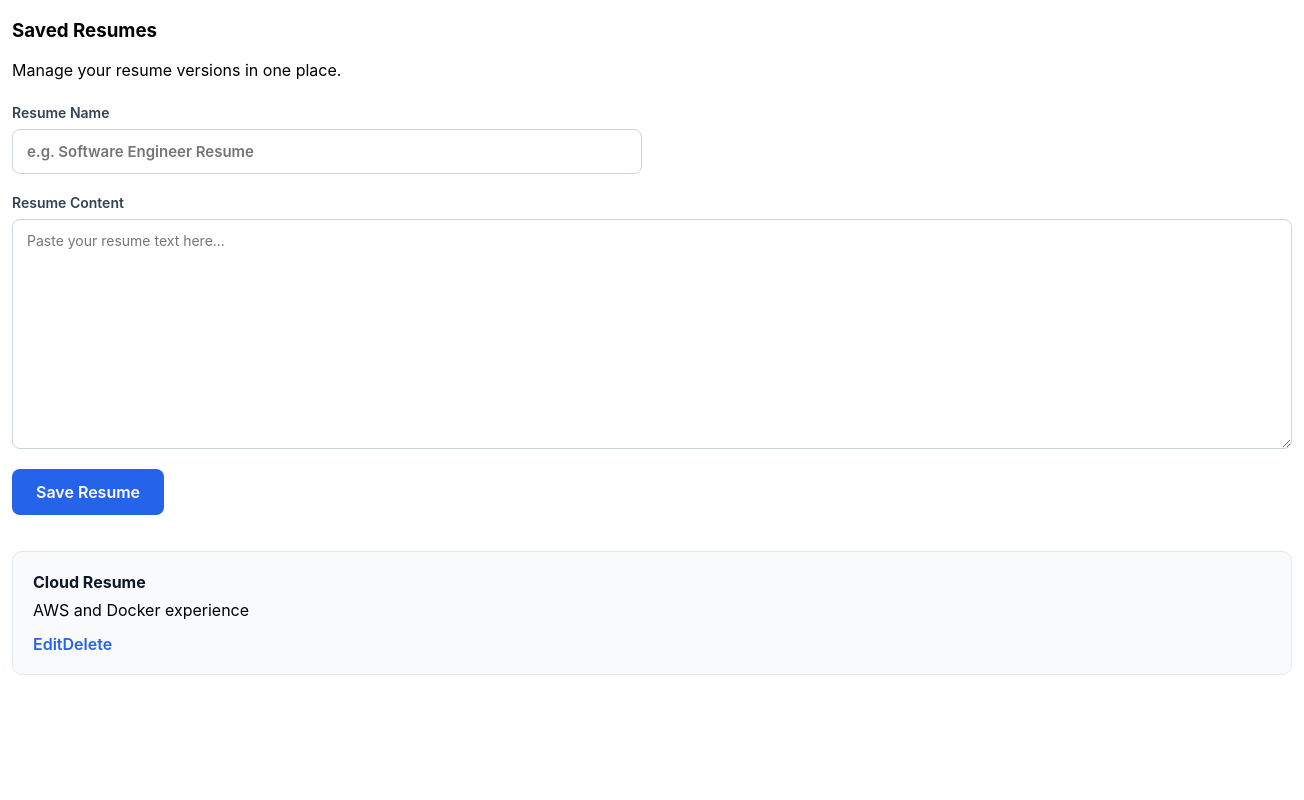
it: ResumeLibrary › cancels resume deletion without deleting it
Expected: the heading "Cloud Resume" is shown, [33, 572, 146, 592]
Click the button "Delete" at (87, 644), box [62, 634, 112, 654]
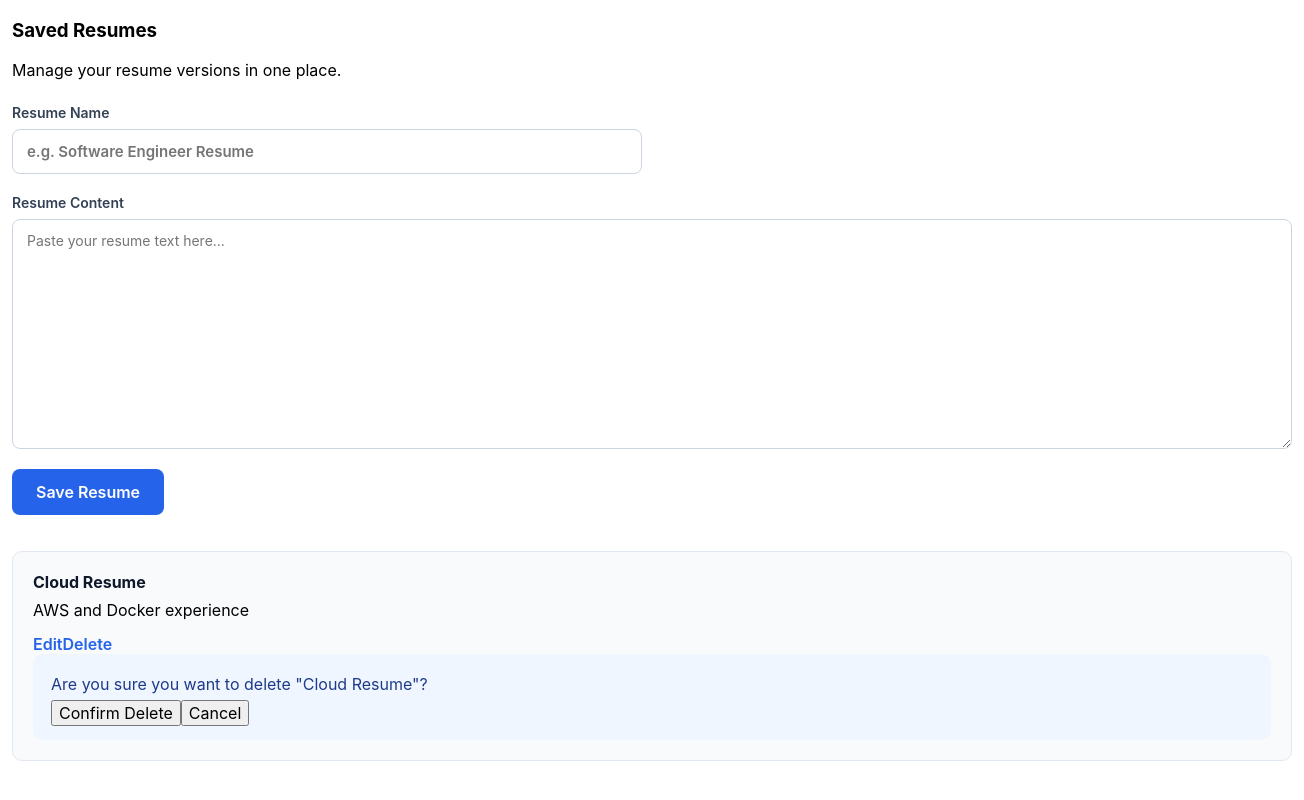
Now the text "Are you sure you want to delete \"Cloud Resume\"?" is shown, box [51, 674, 428, 694]
Click the button "Cancel" at (215, 713), box [181, 700, 249, 726]
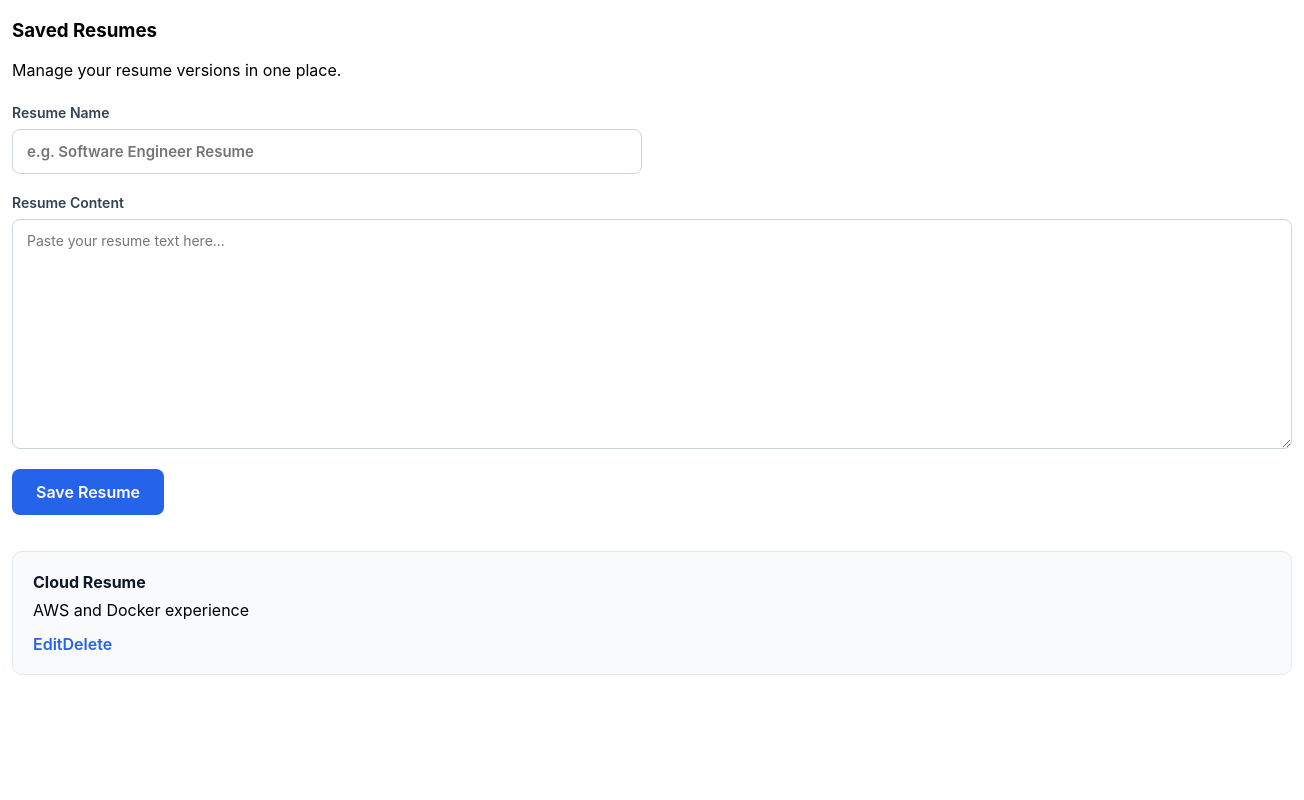
Expected: the heading "Cloud Resume" is shown, [33, 572, 146, 592]
Now the button "Confirm Delete" is gone
